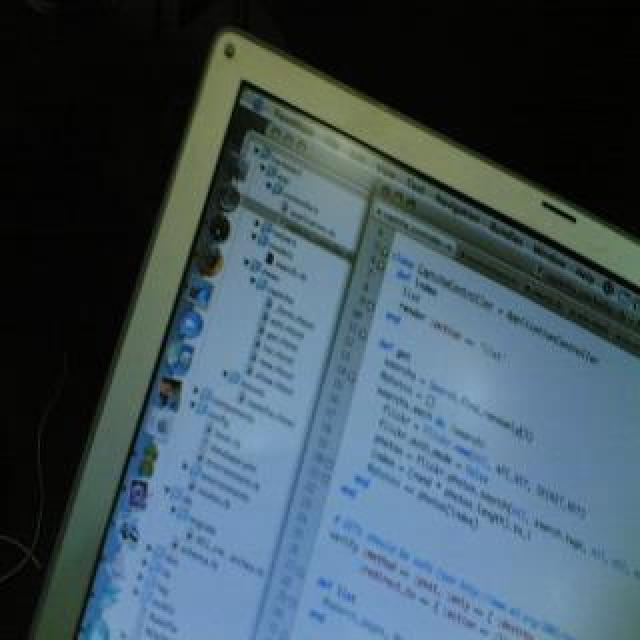laptop_computer: (8, 2, 640, 640)
